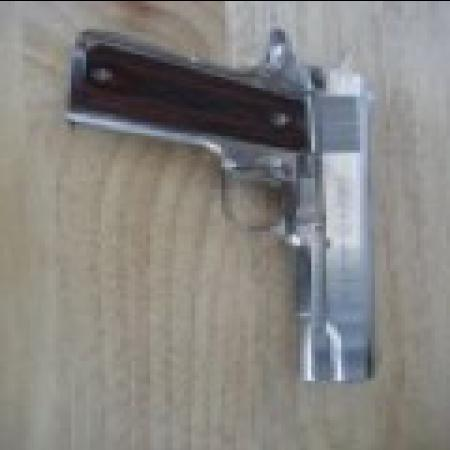Pistol: (75, 25, 383, 388)
